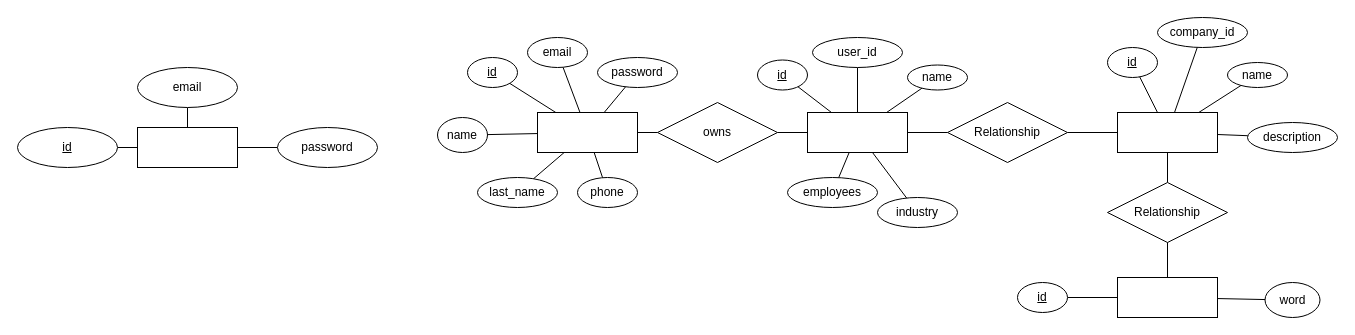
The diagram is 1355 pixels wide and 335 high, and some of its shapes have lost their labels. Here are the shapes that lost their labels. From the top down, the centre of each, then its label:
At (187,147): "Admin".
At (587,132): "User".
At (857,132): "Compay".
At (1167,132): "Product".
At (1167,297): "Related_Words".
